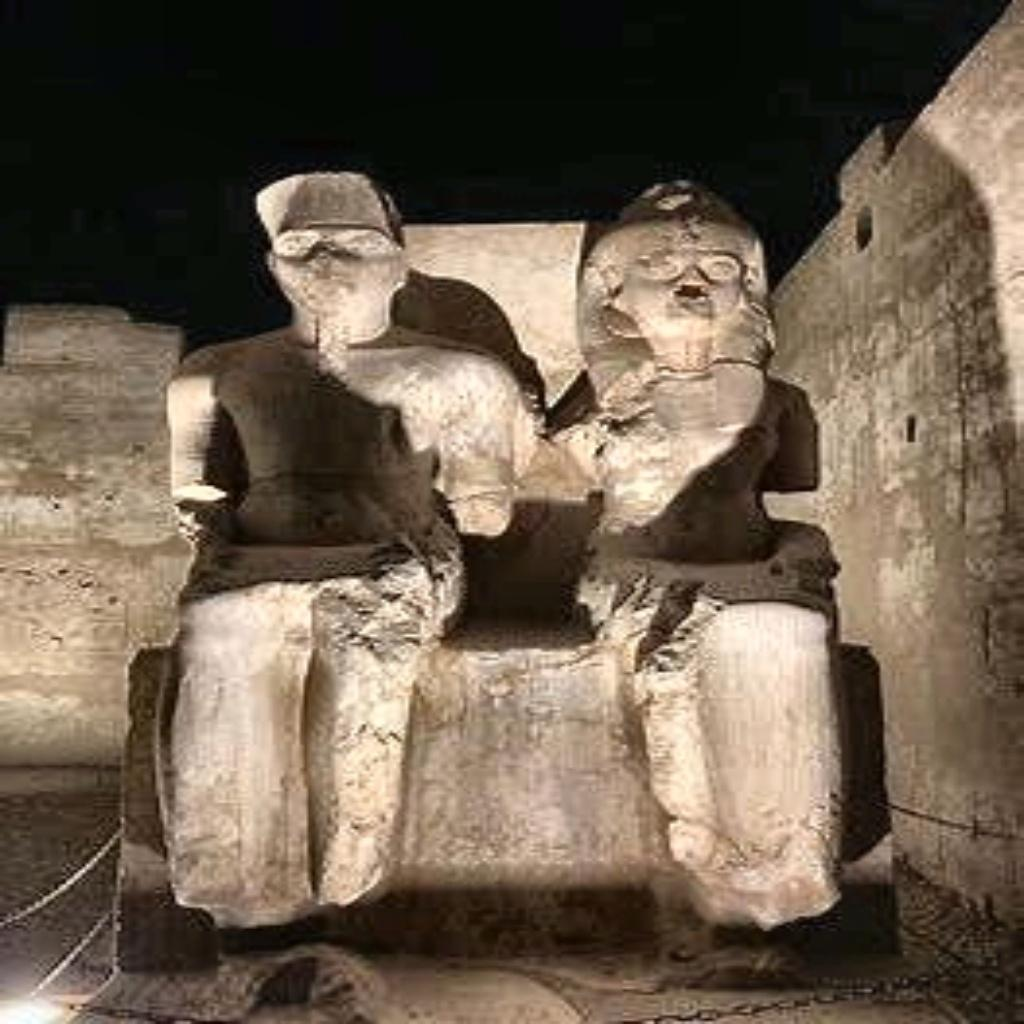Statue of Ankhesenamun: (560, 174, 853, 930)
Statue of Tutankhamun: (156, 166, 528, 916)
